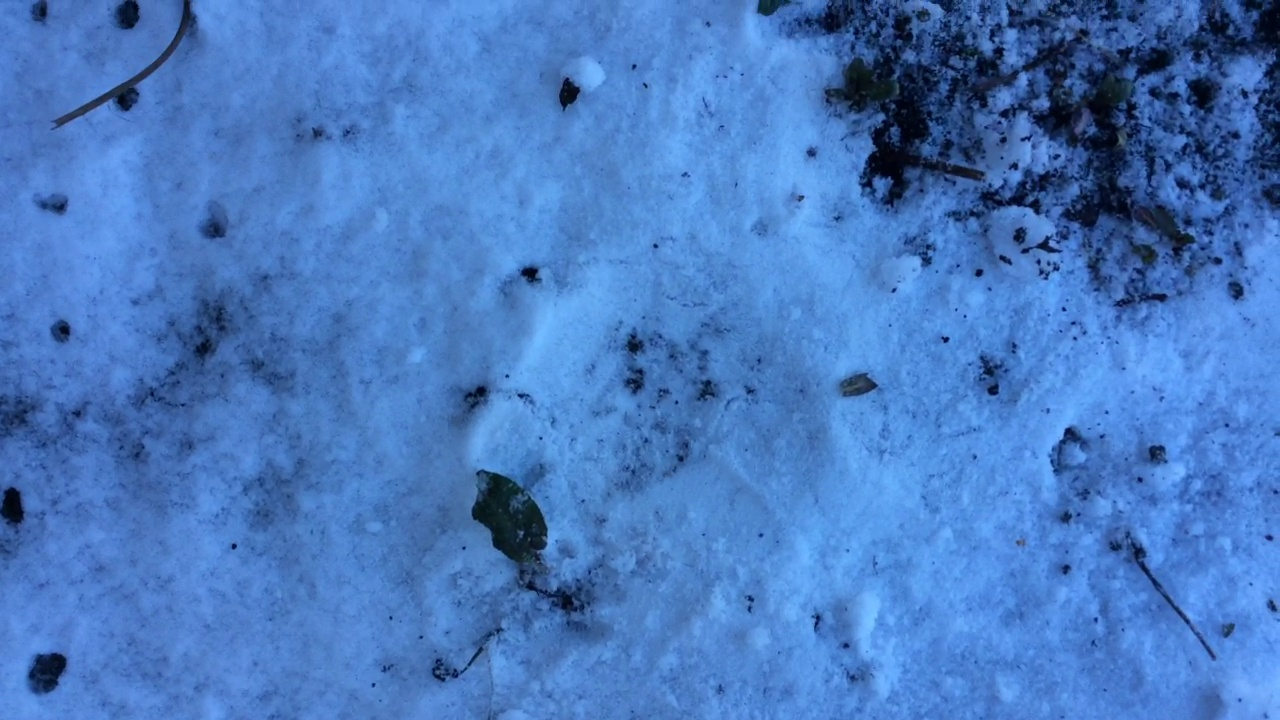root: (505, 561, 555, 600)
rumex: (462, 457, 570, 608)
